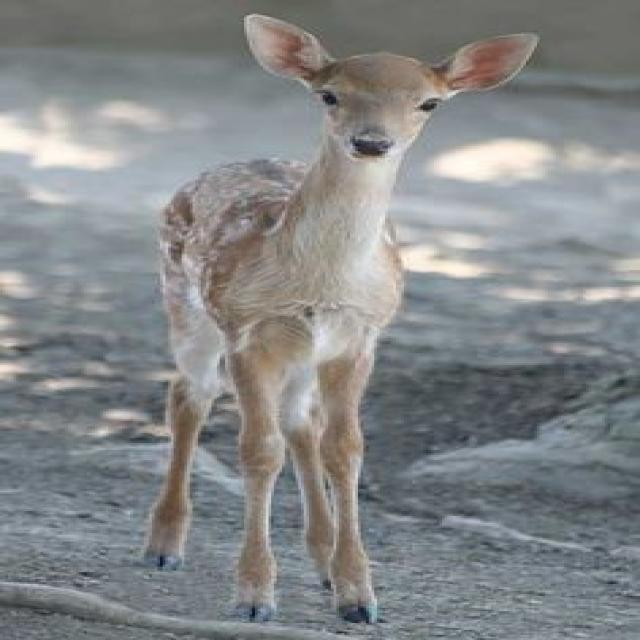Herbivorous: (141, 14, 540, 626)
